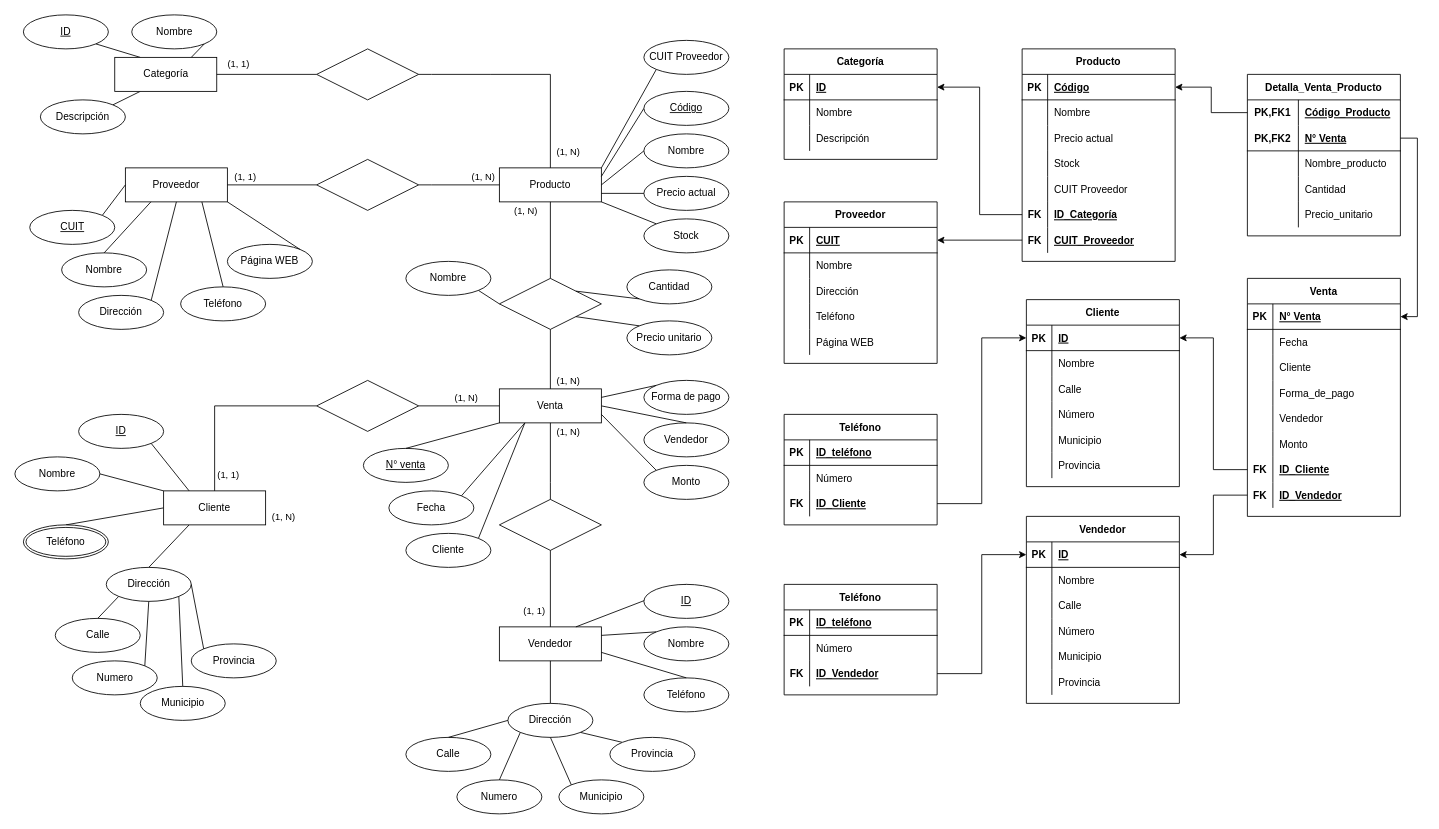
This 1439x829 diagram has some shape labels left out. Here are the shapes that lost their labels. From the top down, the centre of each, then its label:
point (367, 74): Se organizan
point (367, 184): Provee
point (550, 303): Detalla
point (367, 405): Compra
point (550, 524): Registra
